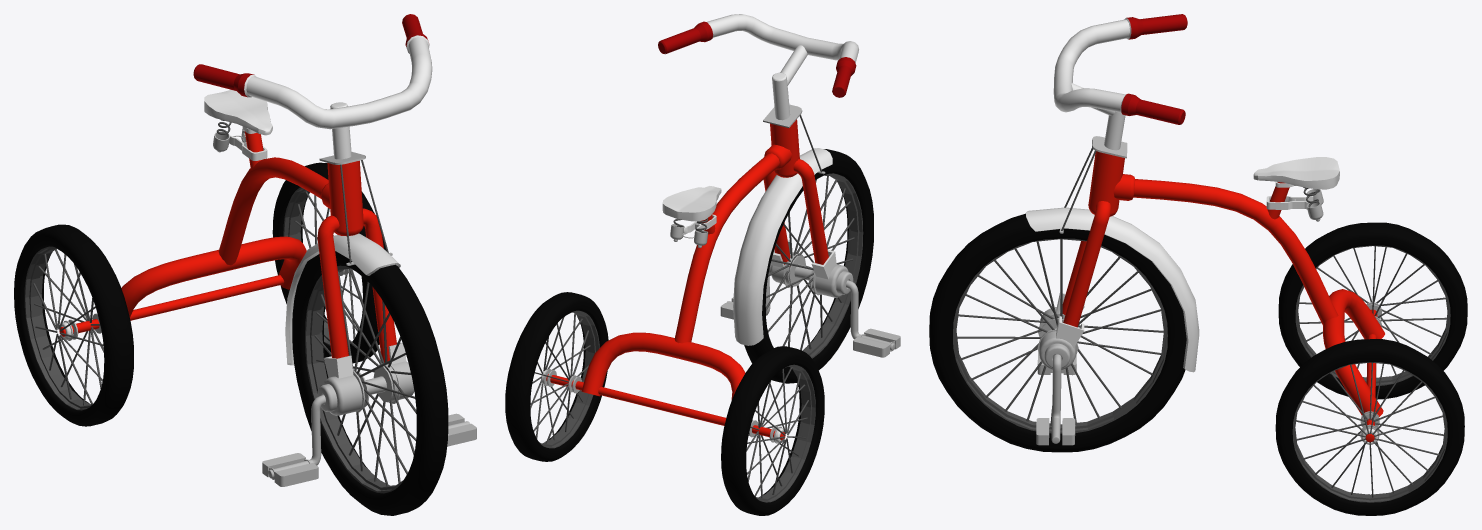
The model's file is tricycle.fbx.
The picture shows the model from 3 angles, left to right: view 1: azimuth 30°, elevation 25°; view 2: azimuth 150°, elevation 25°; view 3: azimuth 270°, elevation 25°; orthographic projection. The views are drawn at different scales.
Parts seen in each view (by area): view 1: Wheels_Low.004; view 2: Wheels_Low.004; view 3: Wheels_Low.004.
Boxes of the visible parts, bbox=[...] form: Wheels_Low.004: bbox=[14, 14, 476, 515]; Wheels_Low.004: bbox=[505, 14, 900, 515]; Wheels_Low.004: bbox=[929, 14, 1467, 515].
Bounding box in the file's own units: 902 × 1269 × 1555.
